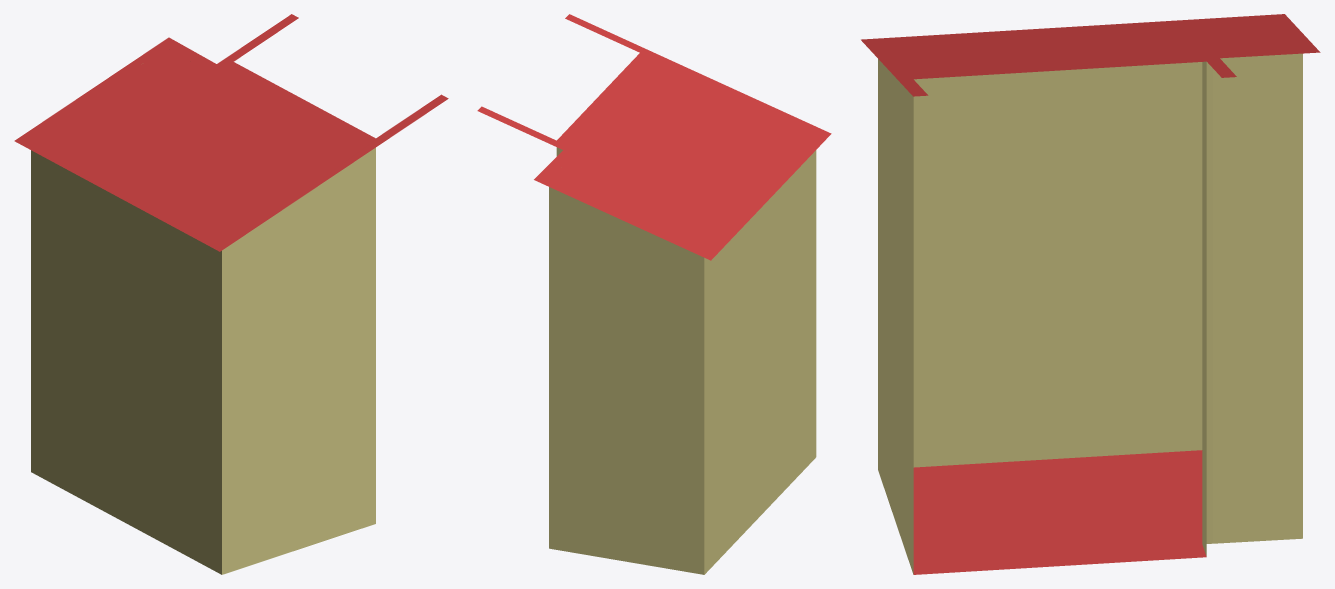
The picture shows the model from 3 angles, left to right: view 1: azimuth 30°, elevation 25°; view 2: azimuth 150°, elevation 25°; view 3: azimuth 270°, elevation 25°; orthographic projection. The views are drawn at different scales.
Size of the model in its own units: 6.95 by 7.42 by 9.32.
